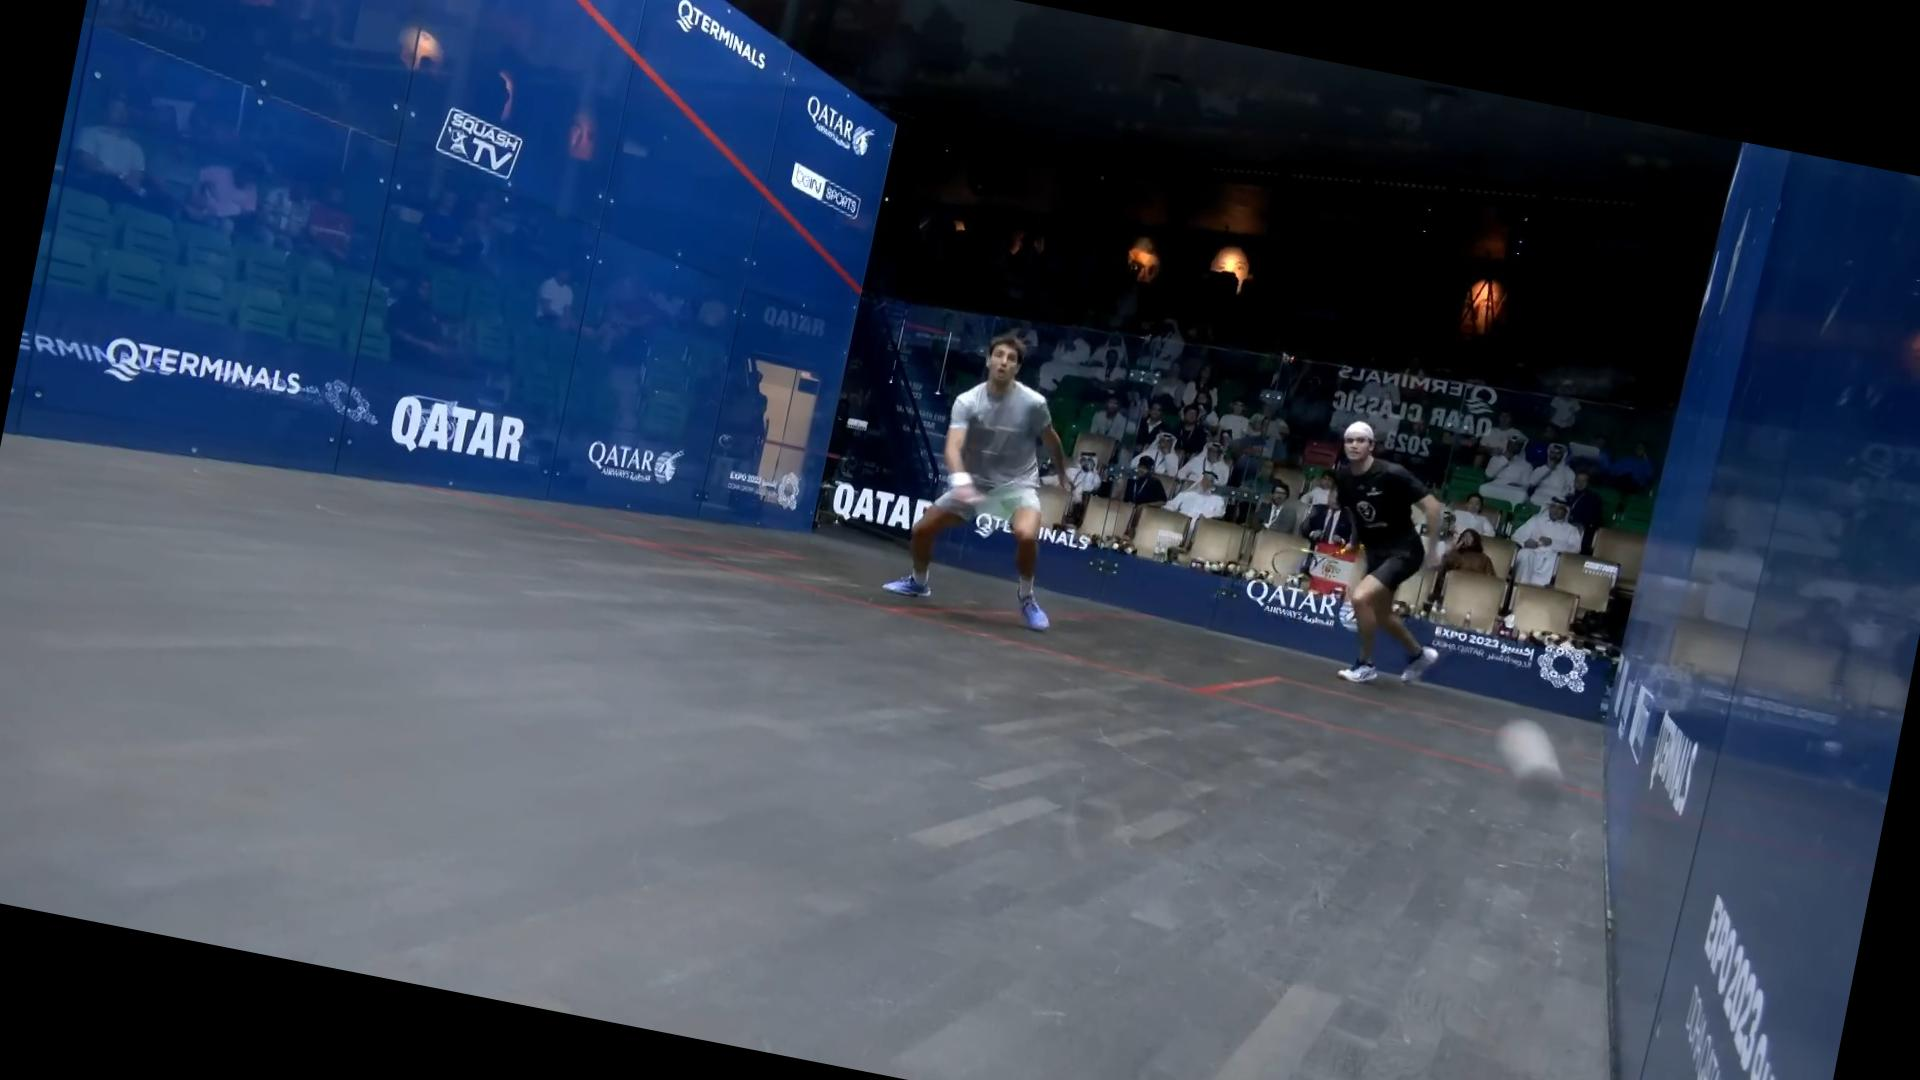Racket: (1266, 529, 1344, 595)
